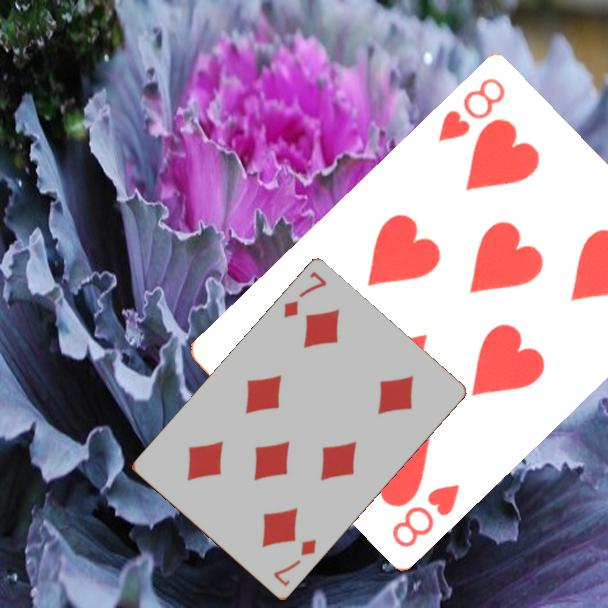d07: (280, 268, 330, 322), (270, 536, 319, 590)
h08: (434, 73, 509, 144), (388, 479, 463, 550)
